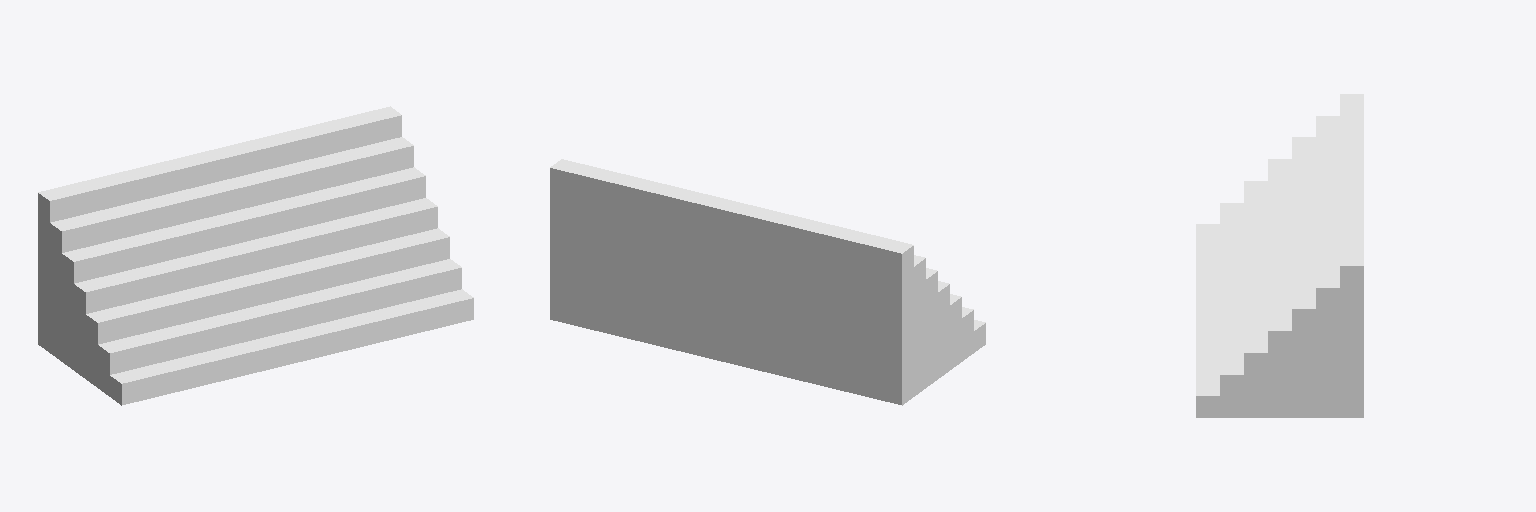
The model's file is stairs.obj.
The picture shows the model from 3 angles: view 1: azimuth 30°, elevation 25°; view 2: azimuth 150°, elevation 25°; view 3: azimuth 270°, elevation 25°; orthographic projection.
Parts seen in each view (by area): view 1: object 1; view 2: object 1; view 3: object 1.
Boxes of the visible parts, box(x1,y1,x2,y2) form: object 1: box(38, 106, 473, 405); object 1: box(550, 159, 985, 405); object 1: box(1196, 94, 1363, 417).
Bounding box in the file's own units: 1.7 × 0.7 × 0.7.